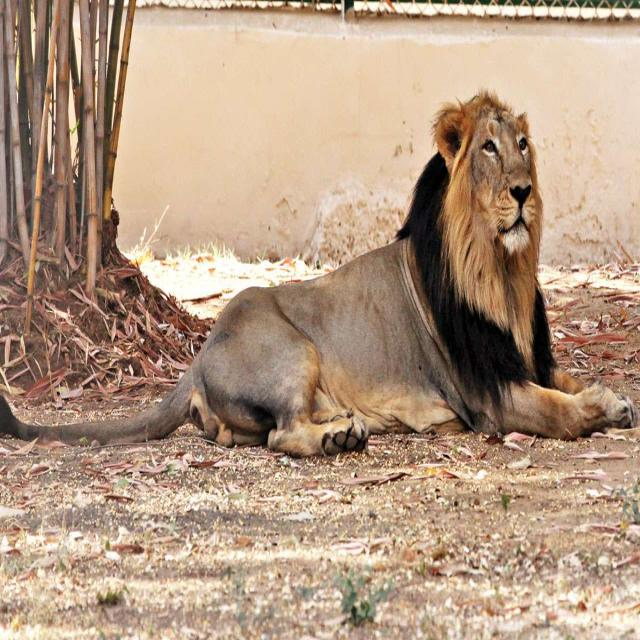Lion: (0, 92, 640, 456)
